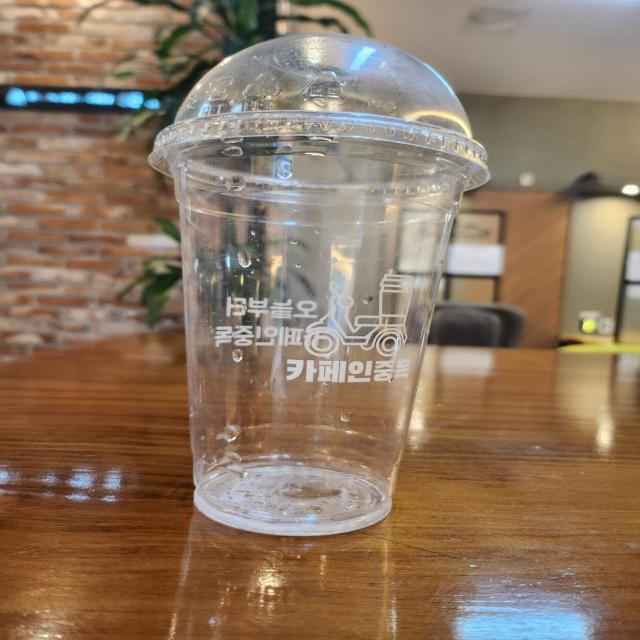plastic_cup_lid: (148, 26, 494, 200)
